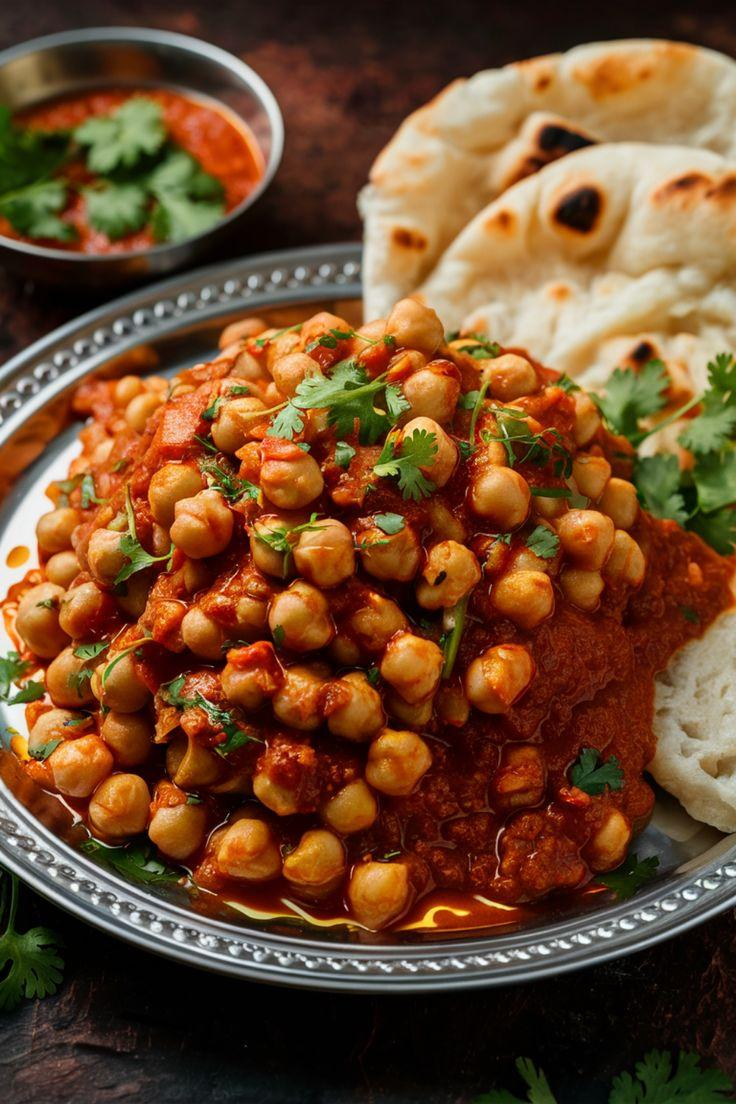chole: (50, 353, 577, 915)
